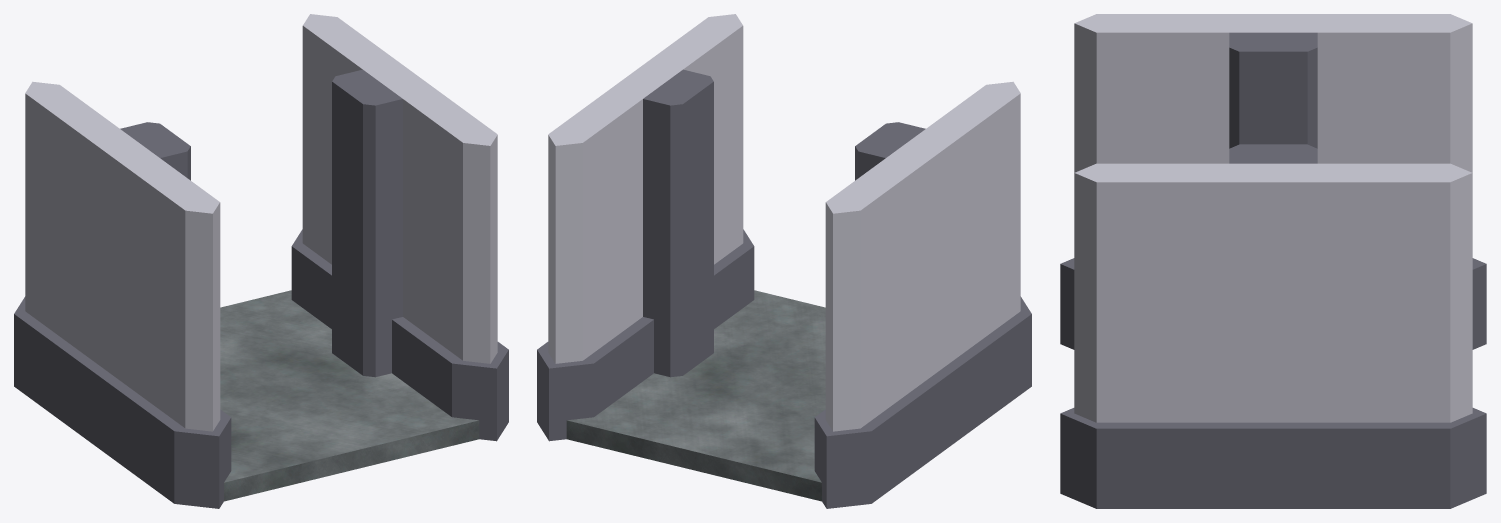
File: sm_hallway_03.fbx
3 renders of one model, left to right at view 1: azimuth 30°, elevation 25°; view 2: azimuth 150°, elevation 25°; view 3: azimuth 270°, elevation 25°, orthographic. The views are drawn at different scales.
Parts seen in each view (by area): view 1: wall_02_171, wall_02_170, floor_square_169; view 2: wall_02_171, wall_02_170, floor_square_169; view 3: wall_02_170, wall_02_171.
Part boxes in pixels (bbox=[...]): wall_02_171: bbox=[14, 81, 231, 508]; wall_02_170: bbox=[291, 14, 508, 441]; floor_square_169: bbox=[220, 290, 479, 501]; wall_02_171: bbox=[814, 81, 1031, 508]; wall_02_170: bbox=[537, 14, 754, 441]; floor_square_169: bbox=[566, 290, 825, 501]; wall_02_170: bbox=[1060, 144, 1486, 508]; wall_02_171: bbox=[1060, 14, 1486, 349].
Bounding box in the file's own units: 12.05 × 10 × 12.05.
